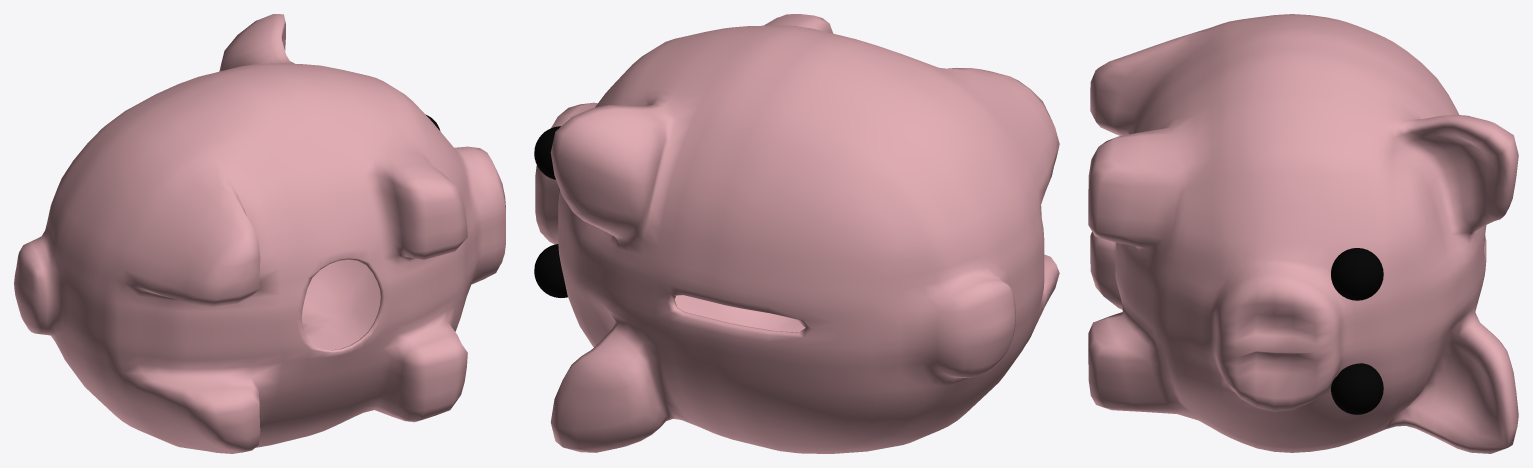
The model's file is piggyBank.fbx.
3 renders of one model, left to right at view 1: azimuth 30°, elevation 25°; view 2: azimuth 150°, elevation 25°; view 3: azimuth 270°, elevation 25°, orthographic. The views are drawn at different scales.
Visible parts, largest first — view 1: pCube3; view 2: pCube3; view 3: pCube3.
Boxes of the visible parts, x1,y1,x2,y2 form: pCube3: [14, 14, 505, 453]; pCube3: [534, 14, 1059, 453]; pCube3: [1088, 14, 1518, 453].
Bounding box in the file's own units: 2878 × 2207 × 2261.
